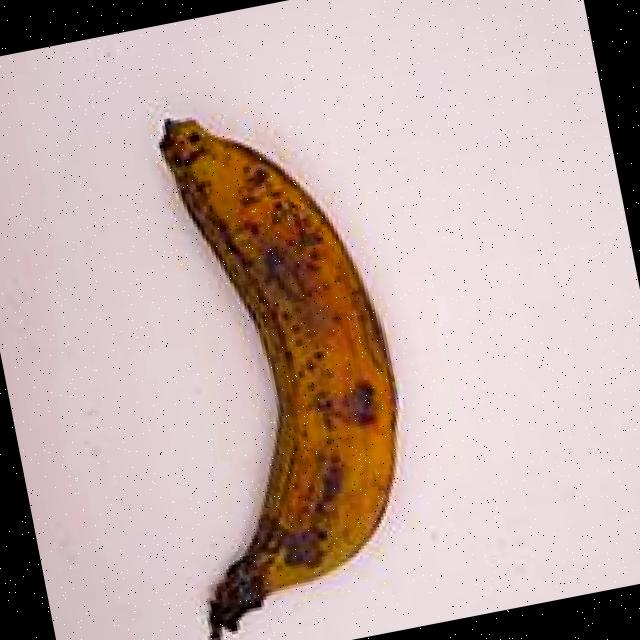Overripe: (63, 49, 472, 640)
